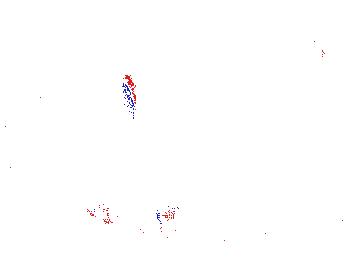X-ray fish: (92, 238, 202, 260)
red belly glassfish: (118, 73, 143, 117)
redtail glassfish: (82, 197, 189, 229)
